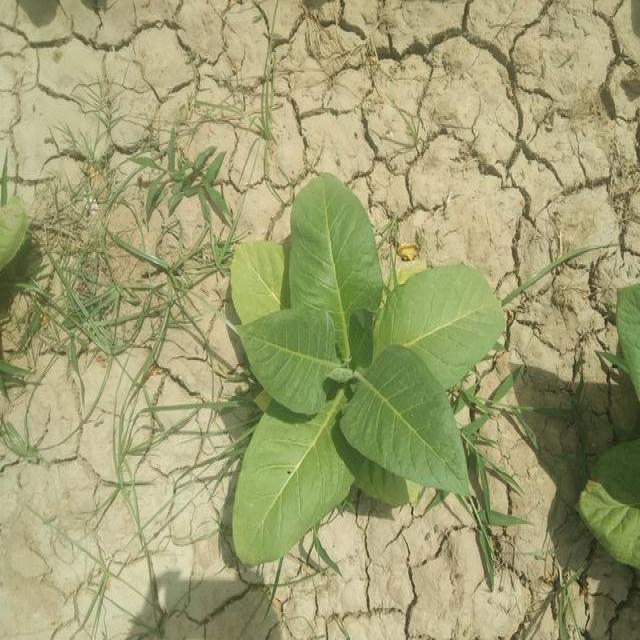crop: (231, 175, 504, 573)
